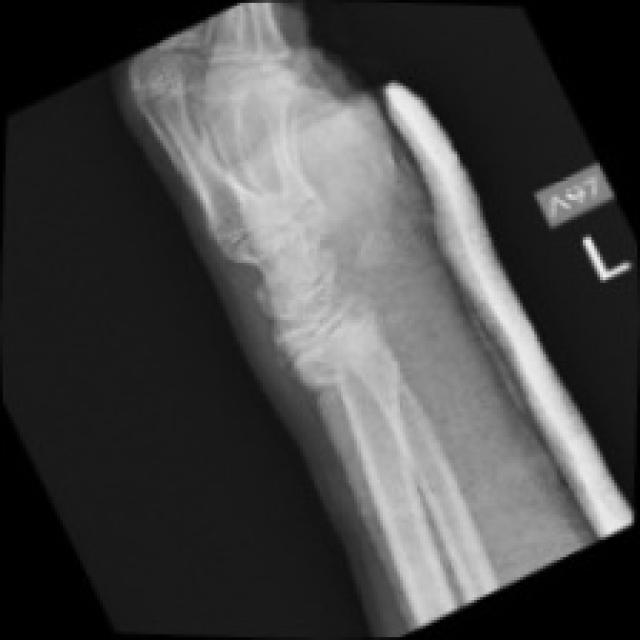fracture: (212, 306, 378, 436)
